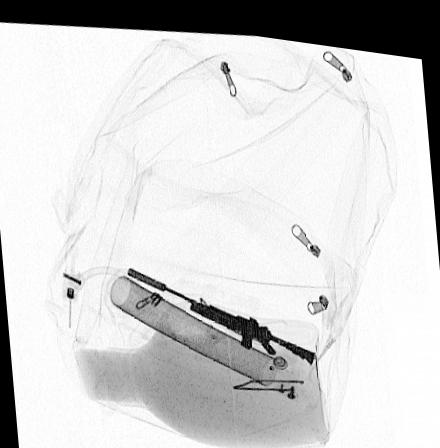Gun: (125, 264, 315, 357)
